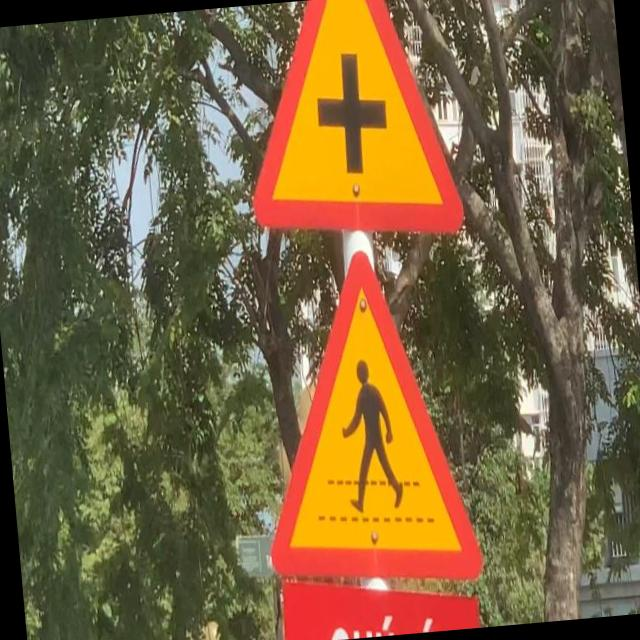W-224: (243, 242, 485, 599)
